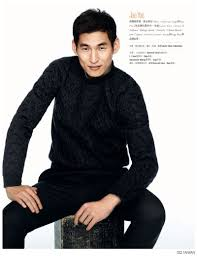asian_male: (65, 3, 124, 82)
